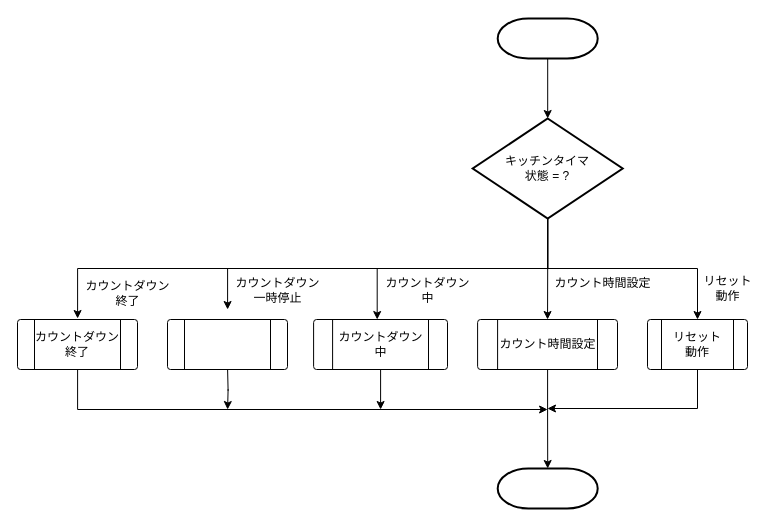
Image size: 775x526. Some labels were removed from this diagram. The shapes that lost their labels are listed below. From the top down, each one's centre as x and y in pixels, then its label:
At point (547, 38): "状態遷移処理".
At point (227, 344): "カウントダウン一時停止".
At point (547, 488): "end".
